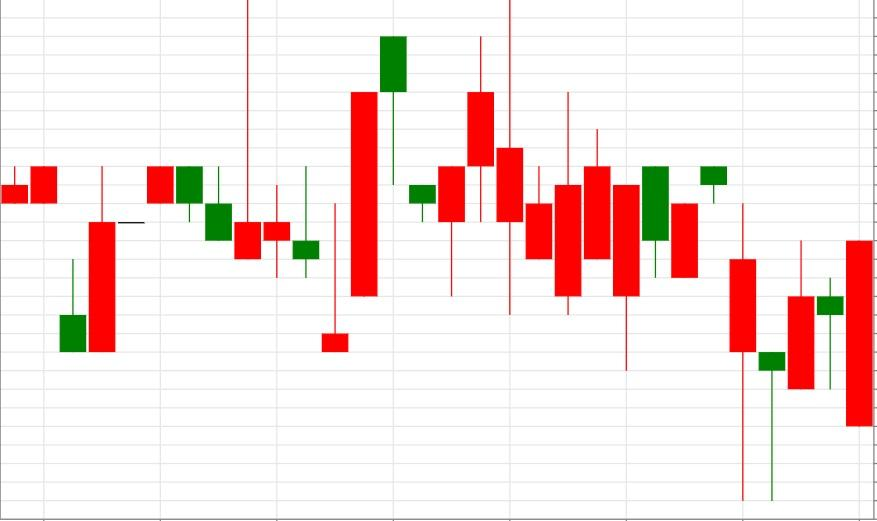bullish_engulfing_rise: (0, 166, 117, 353)
hammer_rise: (700, 166, 786, 501)
inverse_hammer_rise: (146, 0, 349, 353)
